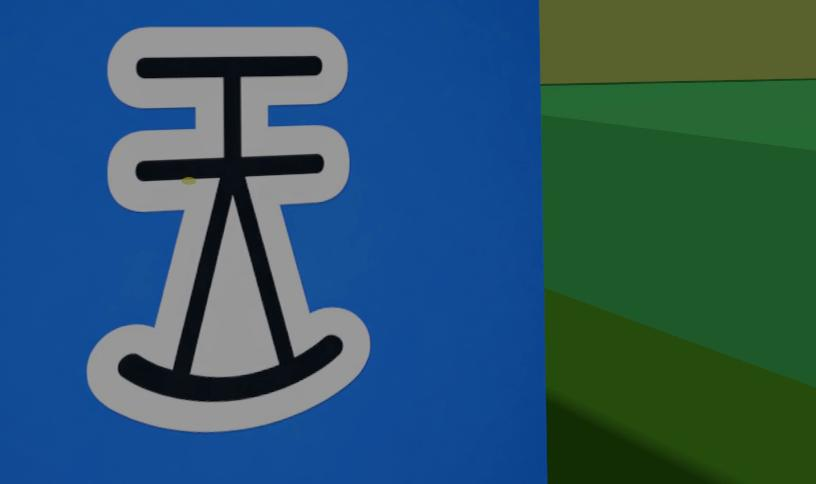KFS_REAL: (0, 0, 546, 483), (87, 27, 369, 431)
